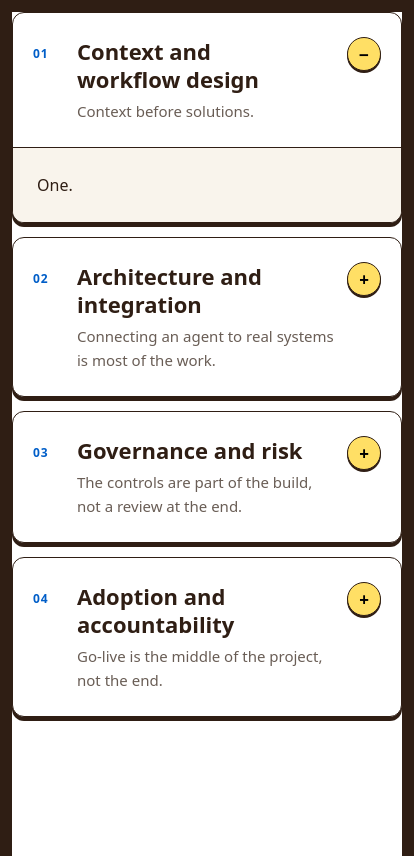
SCN-007 — any number of disclosures can be open at once › holds two hard parts open at the same time
Click the button "Architecture and integration": [170, 276] box [13, 238, 401, 396]
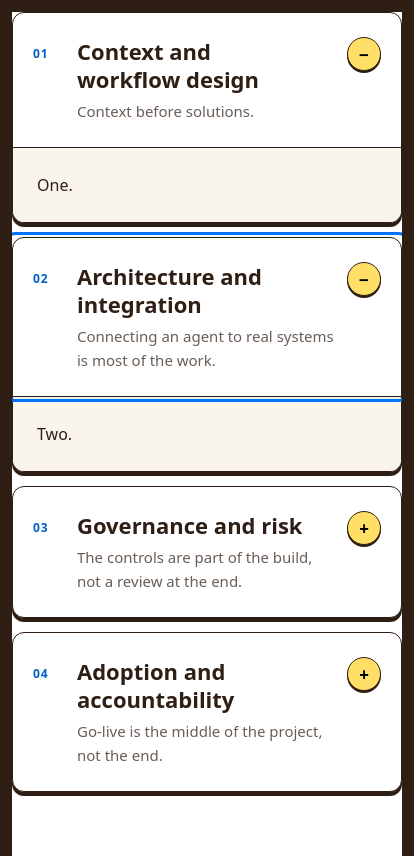
Expected: the button "Architecture and integration" is expanded, [13, 238, 401, 396]
